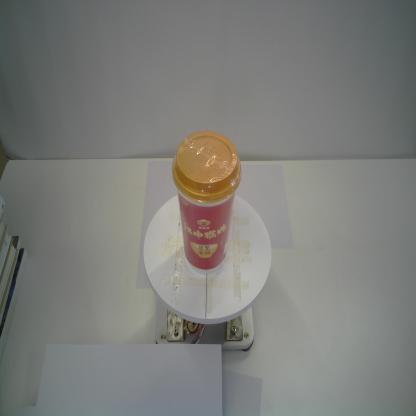Instant Drink: (171, 129, 242, 275)
